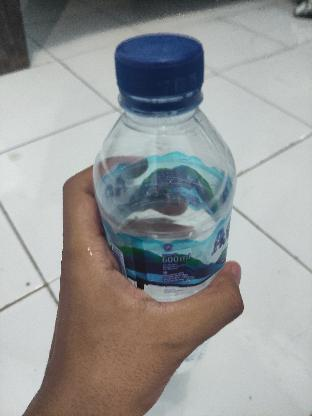Plastic Bottle: (83, 32, 245, 362)
